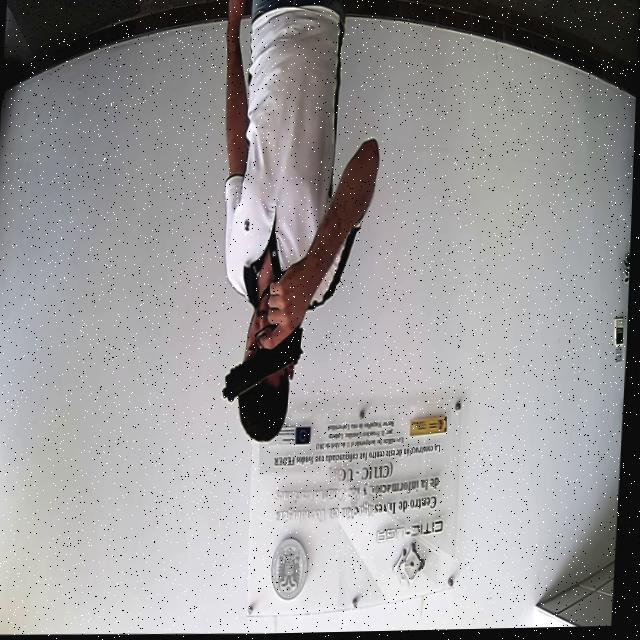pistol: (223, 324, 304, 404)
